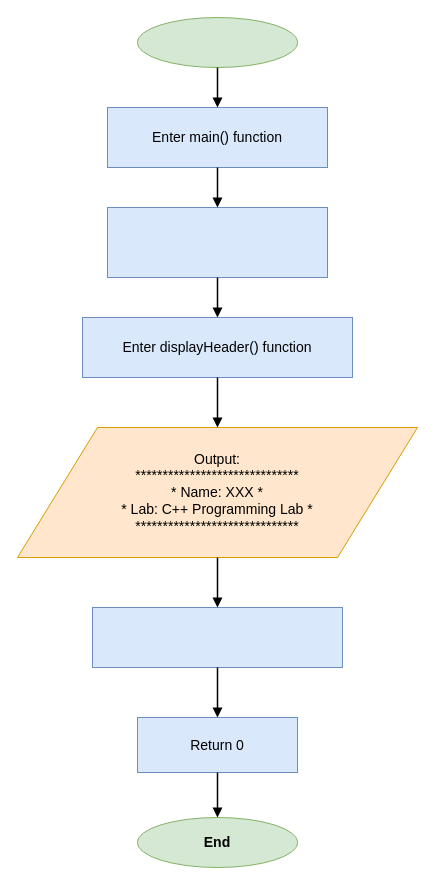
Image size: 435x885. Some labels were removed from this diagram. Each missing label, with the box of its shape:
Call function: displayHeader(): (106, 206, 328, 278)
Return to main() function: (92, 606, 342, 668)
Start: (136, 16, 298, 68)
